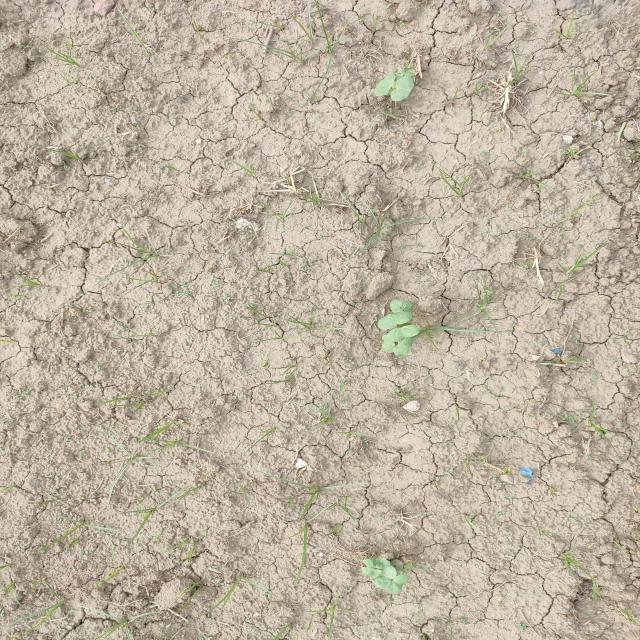seedling: (378, 311, 412, 329), (391, 76, 413, 101), (388, 325, 420, 342), (375, 565, 397, 589), (374, 74, 395, 97), (387, 574, 408, 594), (393, 337, 413, 356), (363, 558, 390, 569), (390, 559, 407, 576), (382, 334, 395, 353), (361, 567, 383, 578), (390, 299, 403, 313), (401, 301, 413, 312)
